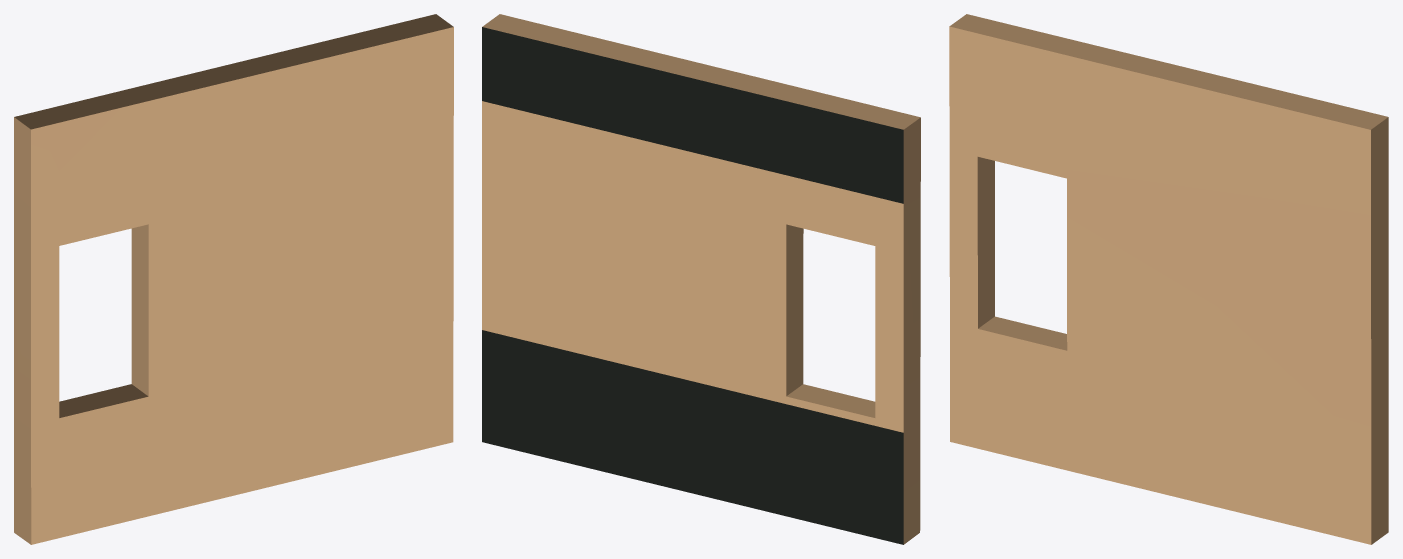
The model's file is Wall 4.fbx.
3 renders of one model, left to right at view 1: azimuth 30°, elevation 25°; view 2: azimuth 150°, elevation 25°; view 3: azimuth 330°, elevation 25°, orthographic.
Parts seen in each view (by area): view 1: Wall 4; view 2: Wall 4; view 3: Wall 4.
Part boxes in pixels (box(x1,y1,x2,y2)): Wall 4: box(14, 14, 453, 544); Wall 4: box(482, 14, 920, 544); Wall 4: box(949, 14, 1388, 544).
Size of the model in its own units: 0.3732 by 4.83 by 5.13.
